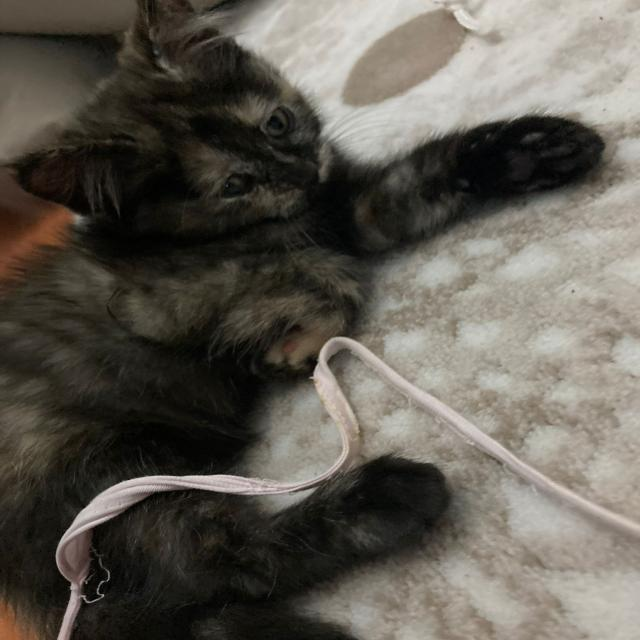authorized: (1, 1, 604, 638)
